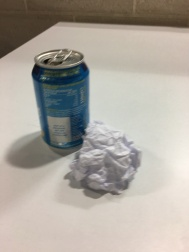can_blue: (18, 46, 95, 152)
paper_white: (74, 123, 140, 207)
